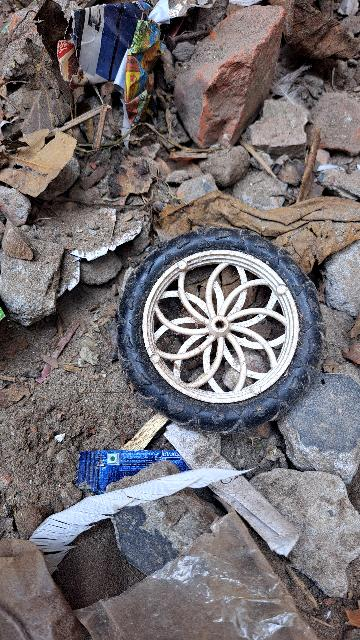hardplastic: (112, 236, 327, 413)
